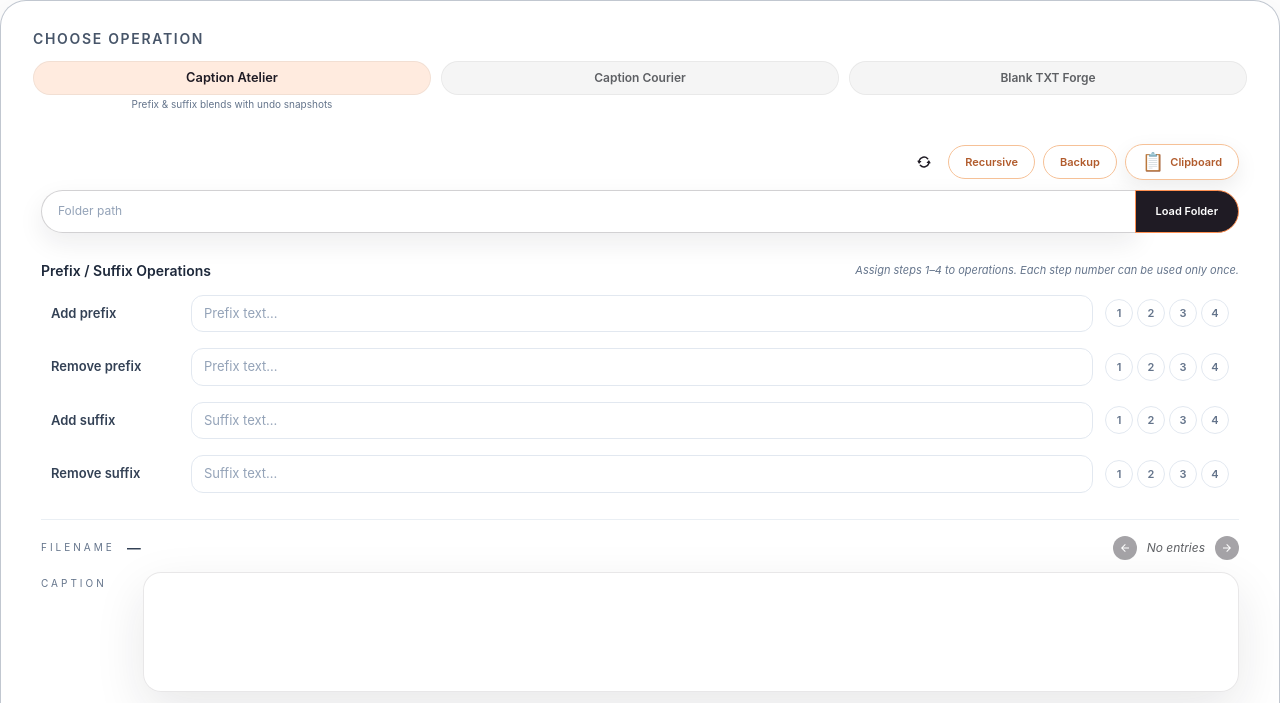
Test case: DatasetActionsDashboard › runs the caption atelier flow with filtering
The image size is (1280, 703).
In the field named "caption folder path": (588, 211) [41, 190, 1136, 232], type "/tmp/dataset"
Click the button "Load Folder": (1187, 211) [1135, 190, 1239, 232]
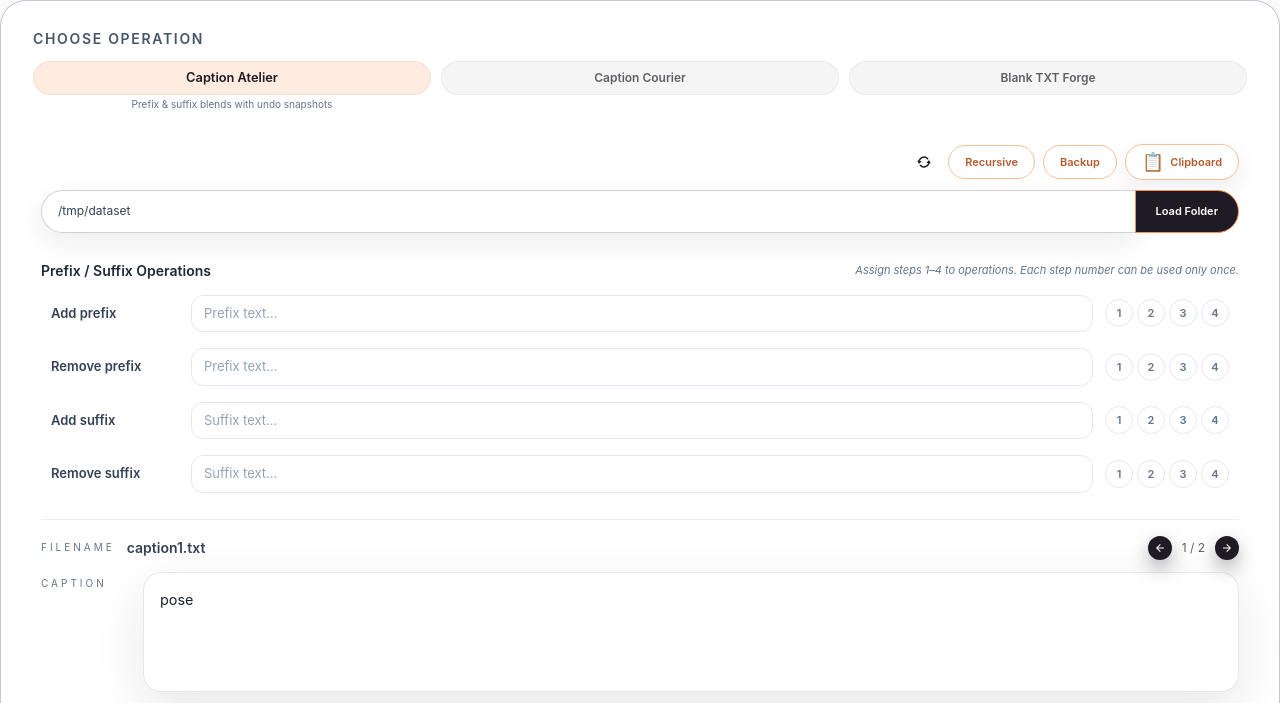
In the field with placeholder "Prefix text..." next to "Add prefix": (642, 313) [191, 294, 1093, 332], type "mix"
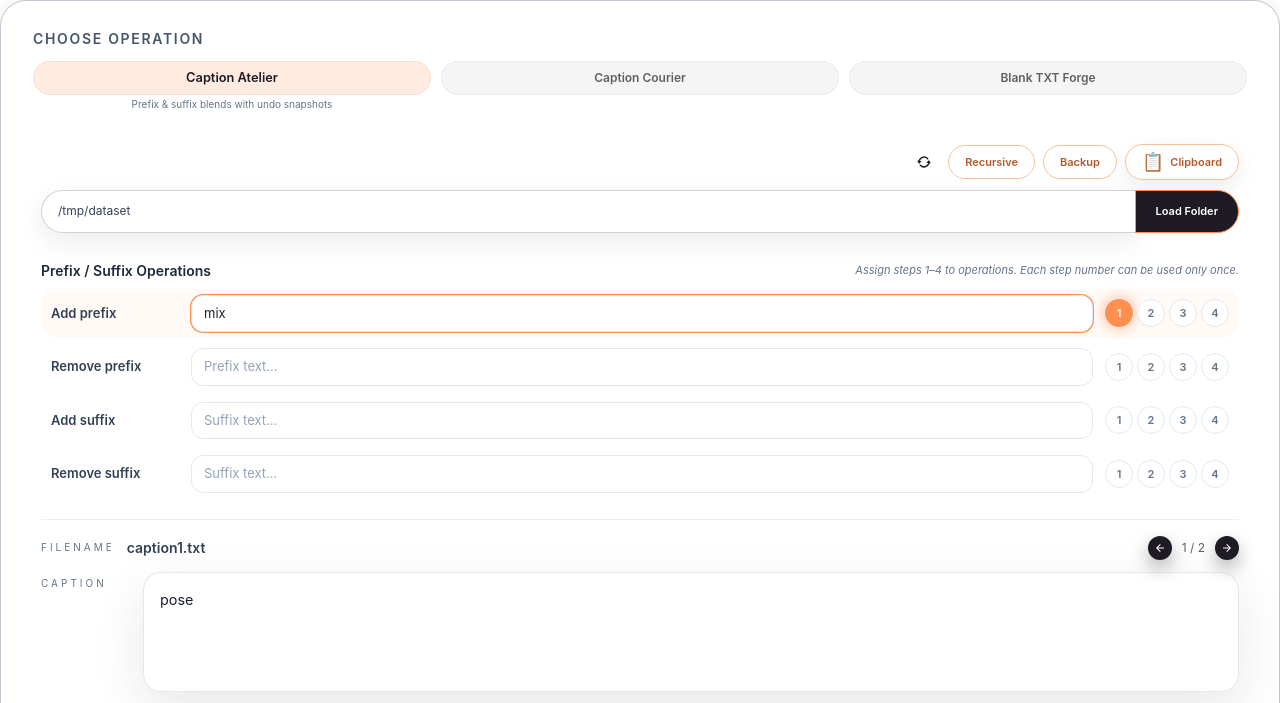
Click the button "1" in the row of "Add prefix": (1119, 313) [1105, 299, 1133, 327]
(page scrolled)
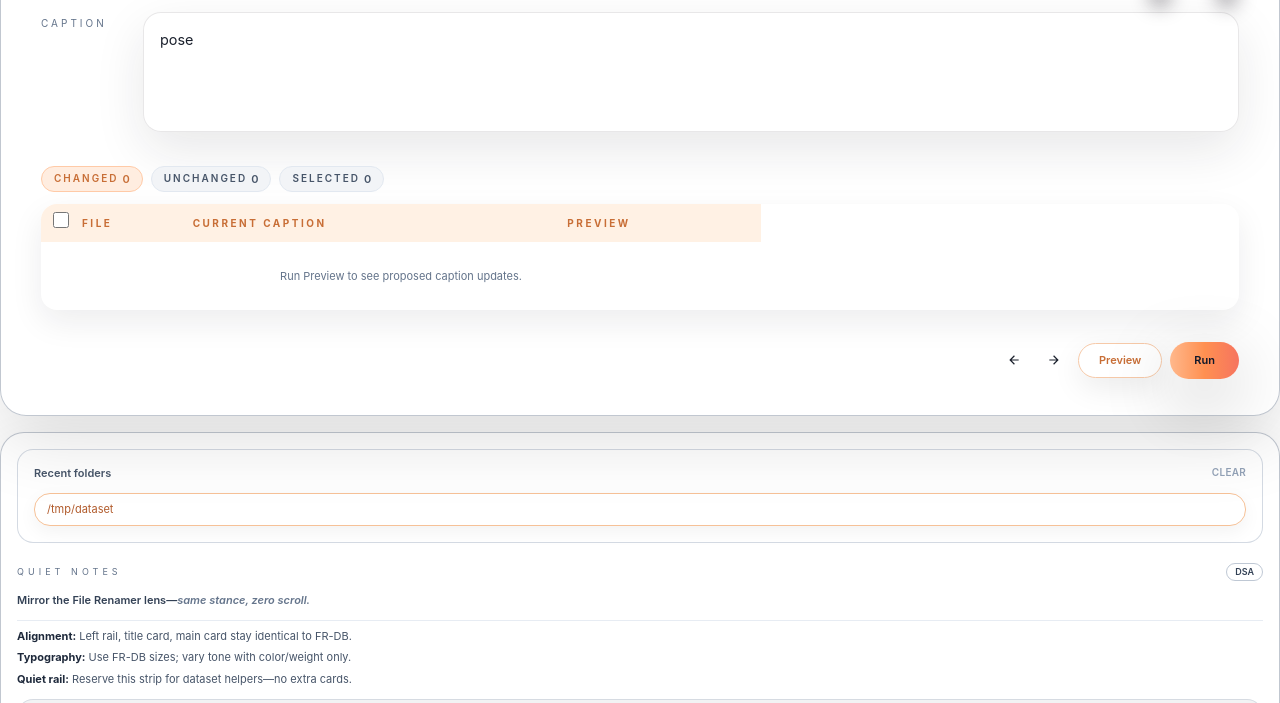
Click the button "Preview": (1120, 360) [1078, 343, 1162, 378]
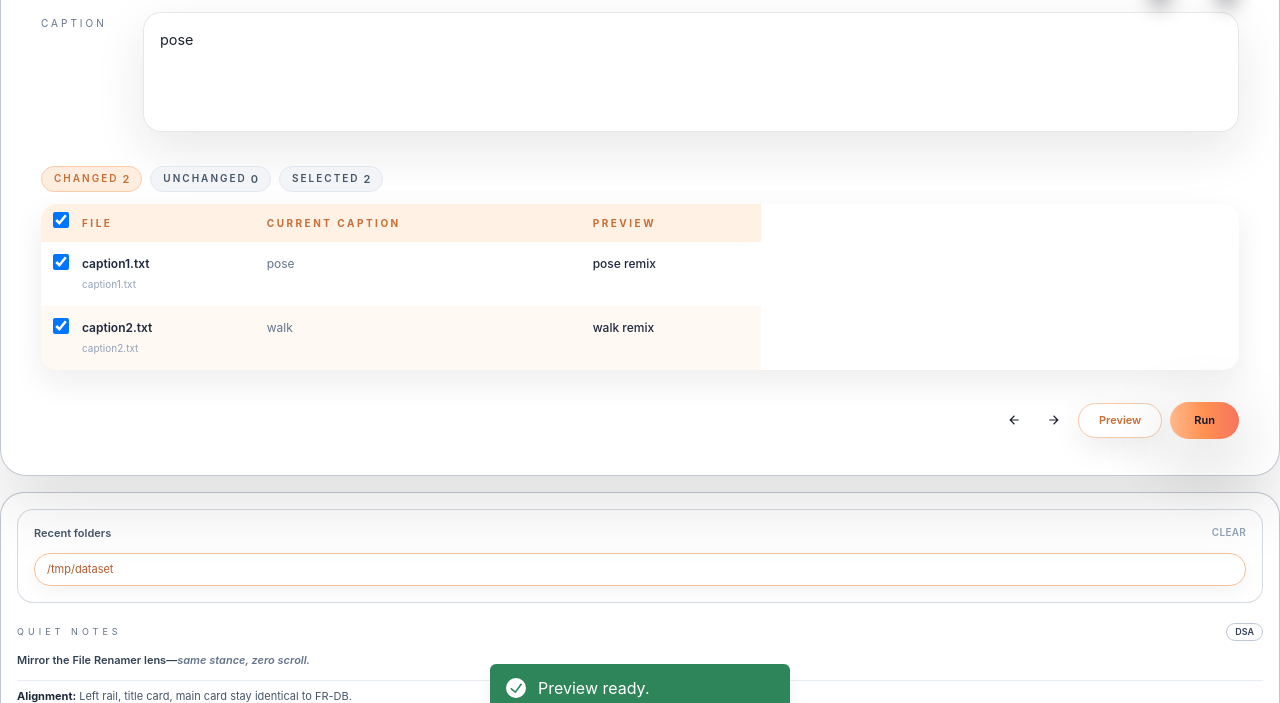
Check: the checkbox in the row of "pose remix" is checked
Check: the checkbox in the row of "walk remix" is checked, box [53, 318, 69, 334]
Click the checkbox in the row of "pose remix": (61, 262) [53, 254, 69, 270]
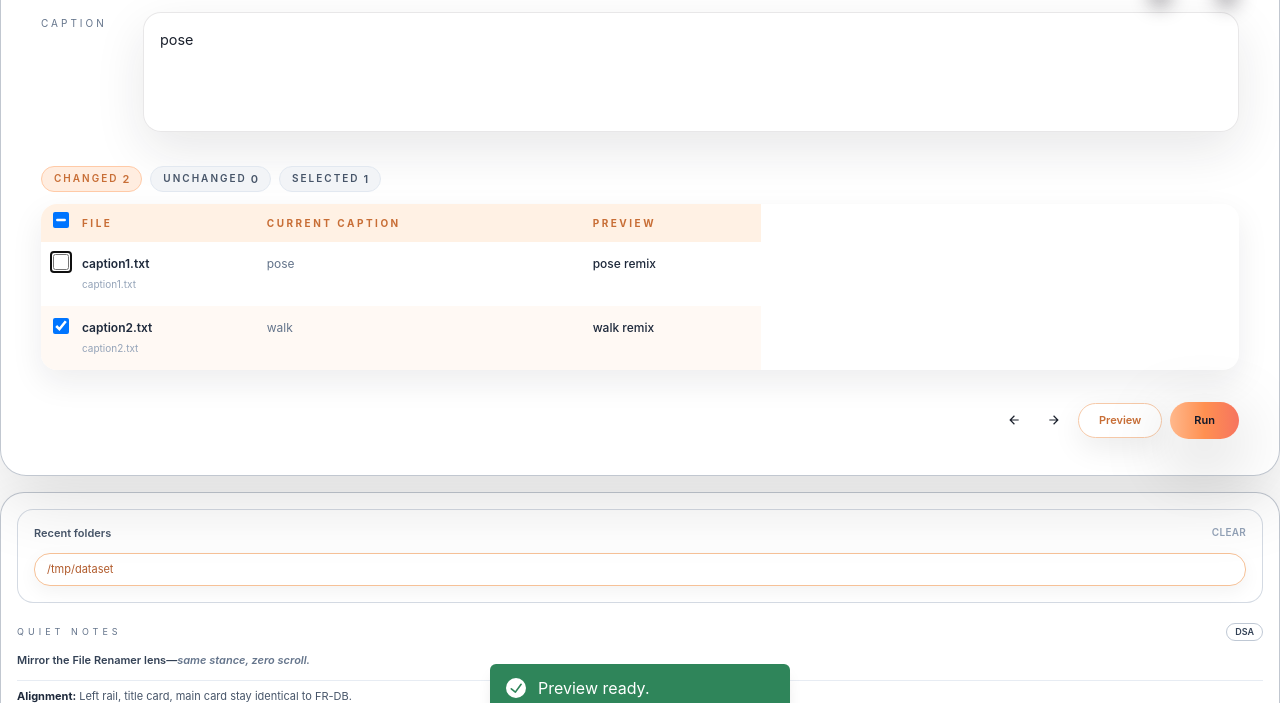
Click the button "Run": (1205, 420) [1170, 402, 1239, 438]
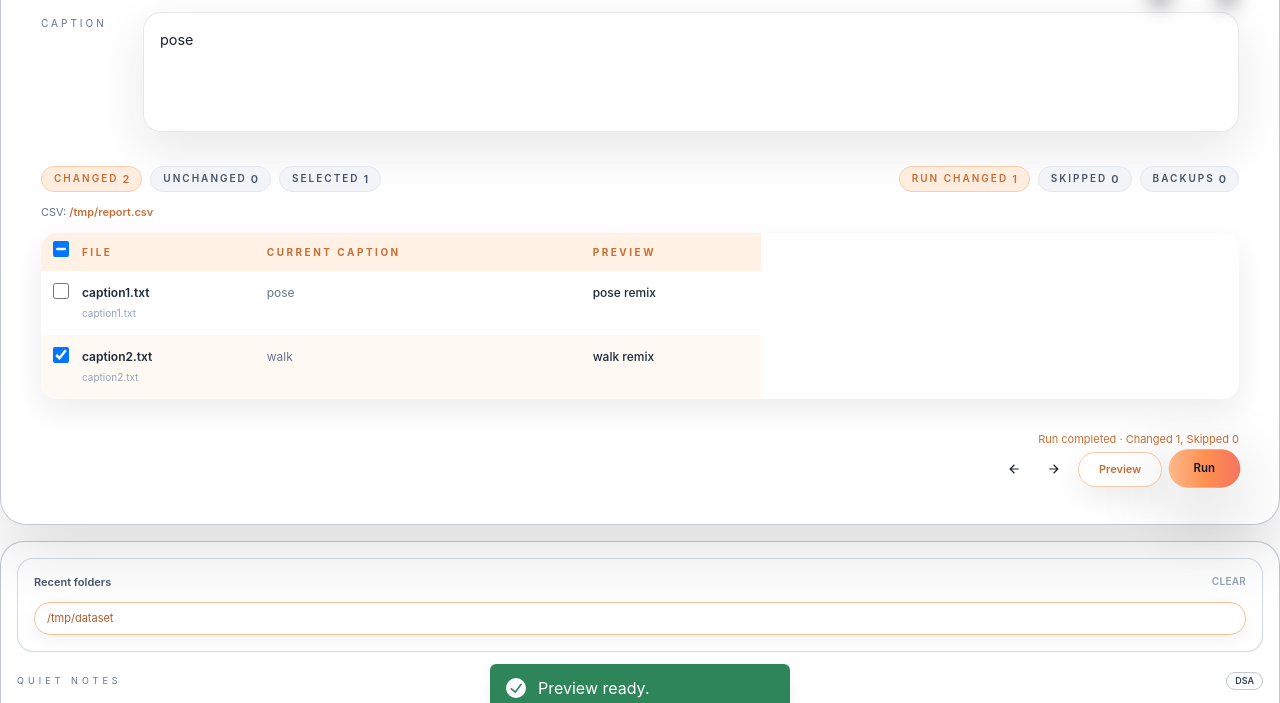
Check: the 1st text "caption2.txt" is shown, box [82, 348, 152, 364]
Check: the text "Run completed · Changed 1, Skipped 0" is shown, box [1038, 430, 1239, 447]
